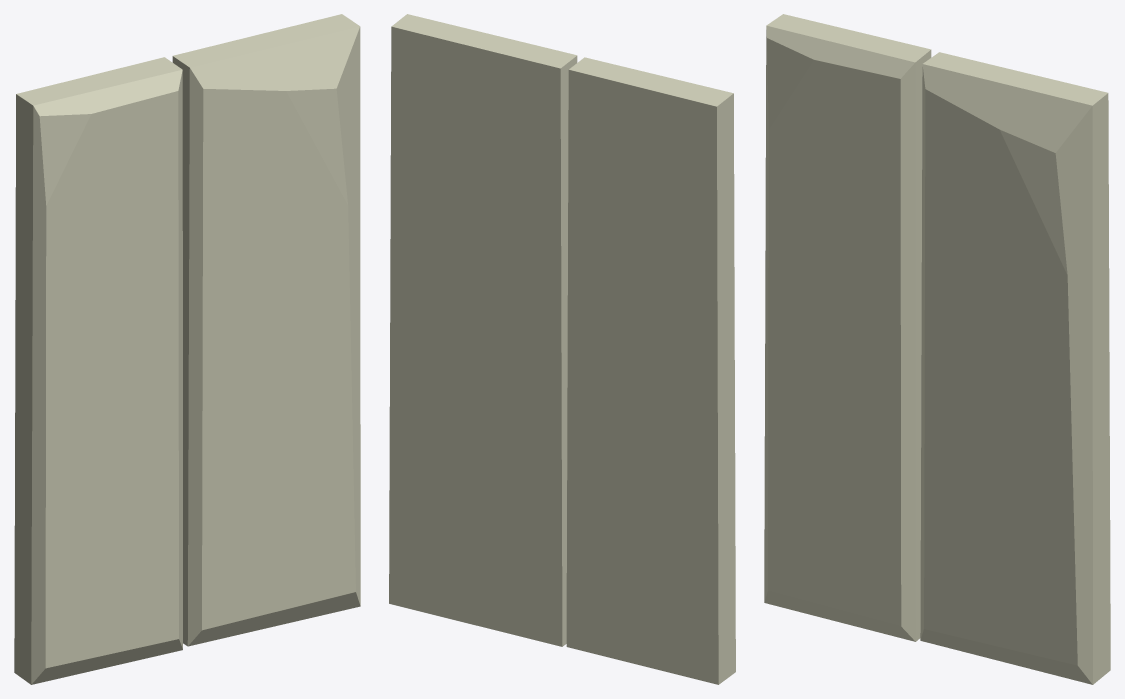
File: StoneDoor.fbx
The picture shows the model from 3 angles, left to right: view 1: azimuth 30°, elevation 25°; view 2: azimuth 150°, elevation 25°; view 3: azimuth 330°, elevation 25°; orthographic projection.
Parts seen in each view (by area): view 1: StoneWall; view 2: StoneWall; view 3: StoneWall.
Boxes of the visible parts, left/top/right/bottom form: StoneWall: left=14, top=14, right=360, bottom=684; StoneWall: left=389, top=14, right=735, bottom=684; StoneWall: left=764, top=14, right=1110, bottom=684.
Bounding box in the file's own units: 149 × 251 × 20.86.
